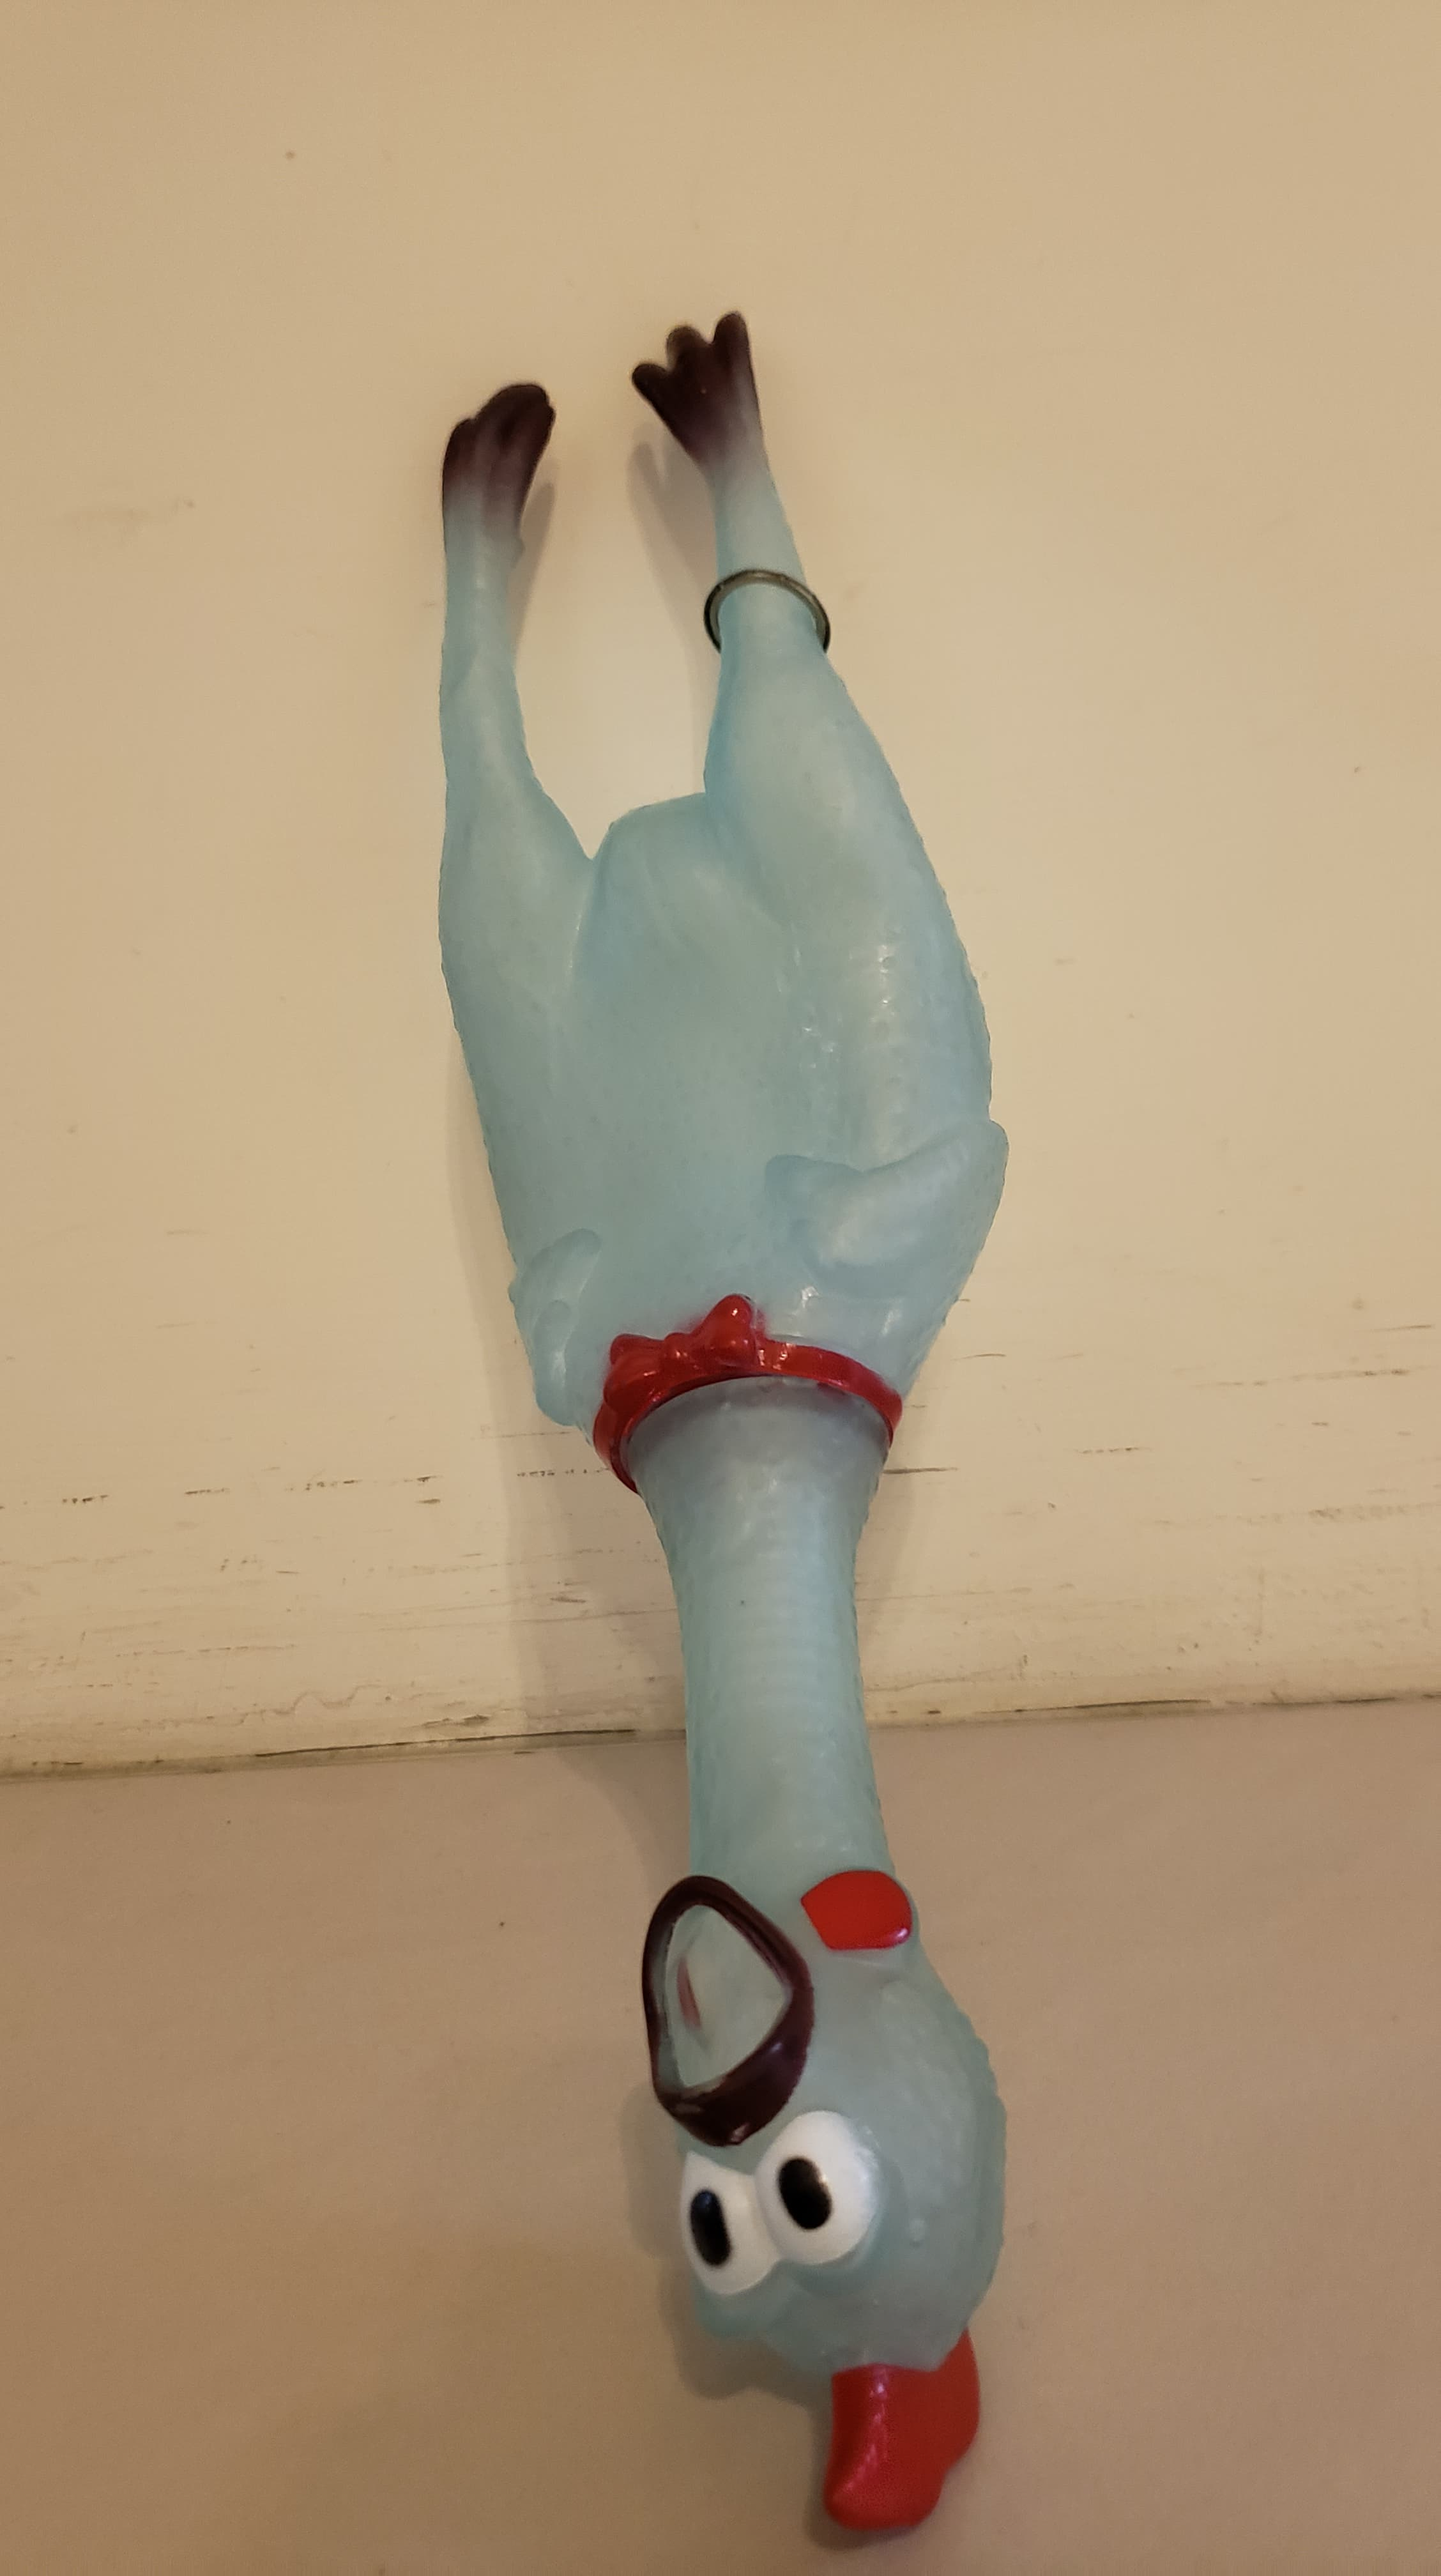Screaming chicken: (391, 329, 1064, 2544)
